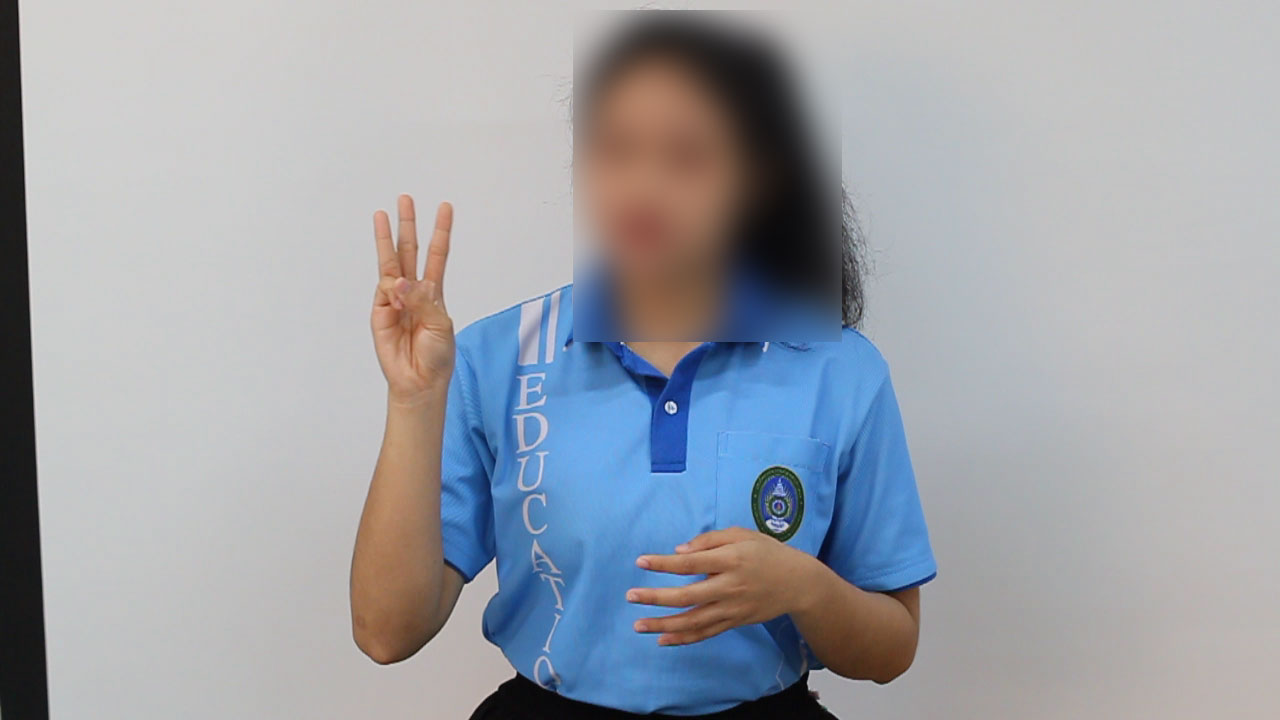wor: (362, 185, 468, 402)
